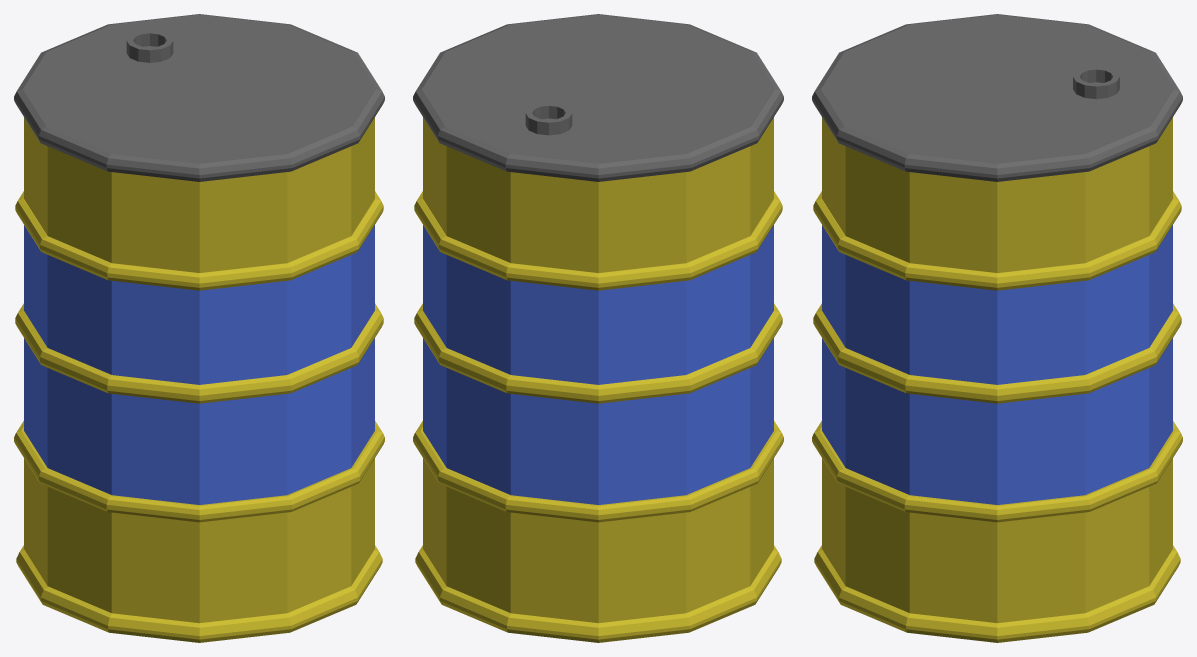
File: Barrel3.fbx
The picture shows the model from 3 angles, left to right: view 1: azimuth 30°, elevation 25°; view 2: azimuth 150°, elevation 25°; view 3: azimuth 270°, elevation 25°; orthographic projection.
Visible parts, largest first — view 1: Cylinder; view 2: Cylinder; view 3: Cylinder.
Part boxes in pixels (x1=…): Cylinder: x1=14, y1=14, x2=384, y2=642; Cylinder: x1=413, y1=14, x2=783, y2=642; Cylinder: x1=812, y1=14, x2=1182, y2=642.
Bounding box in the file's own units: 212 × 309 × 212.
